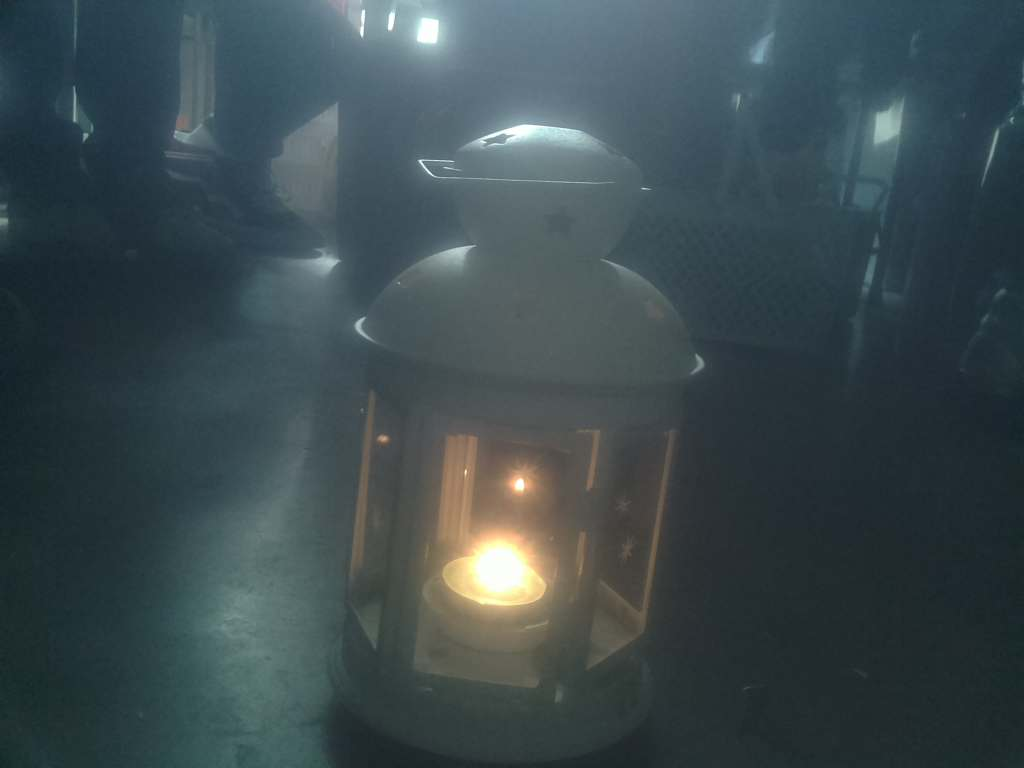fire: (440, 533, 570, 632)
